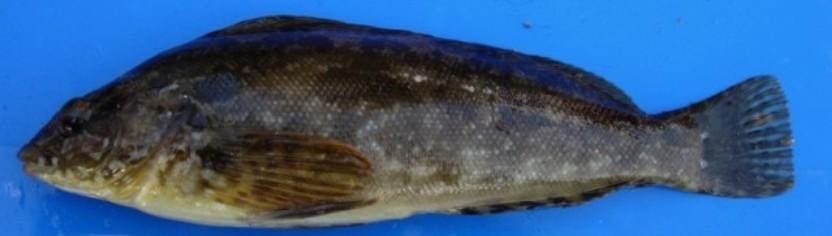fish: (20, 16, 793, 226)
